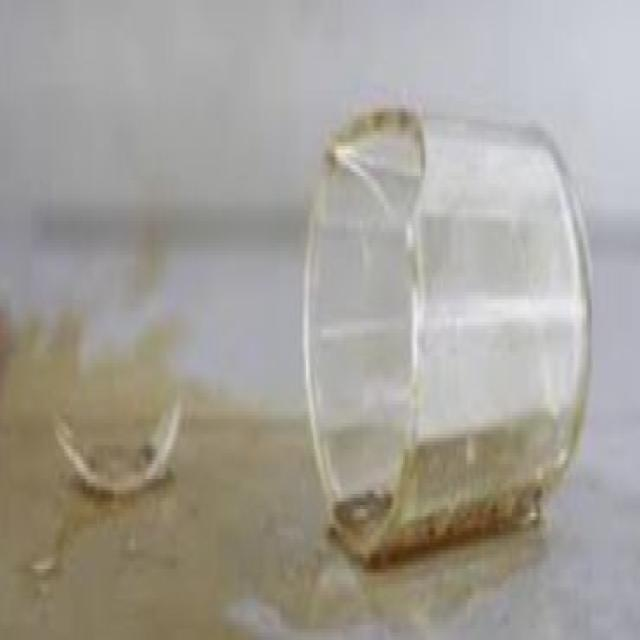electronic: (300, 90, 598, 574)
